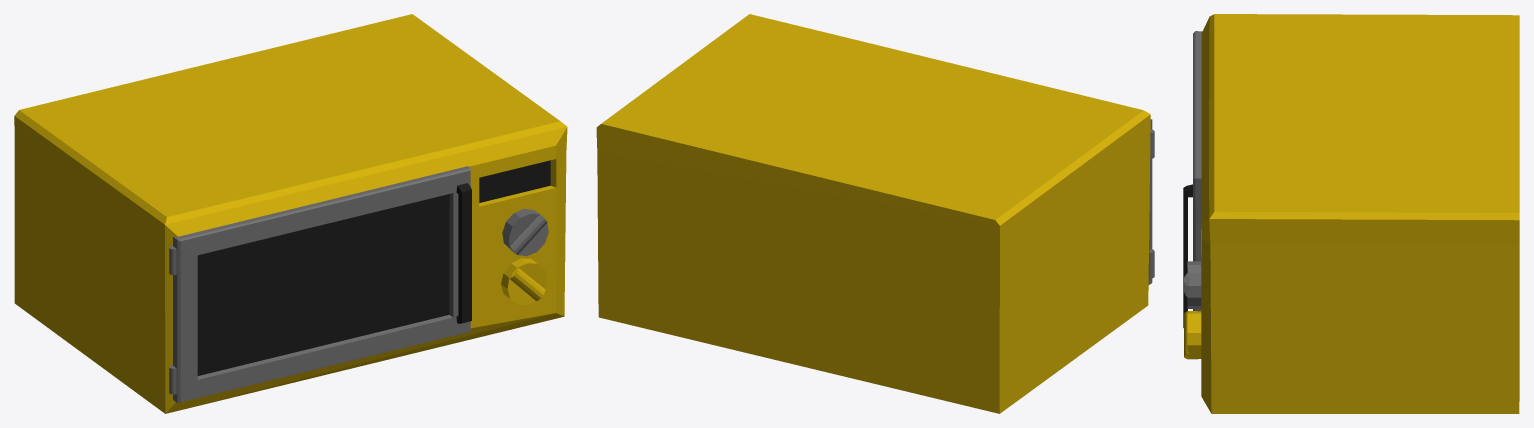
The model's file is LudumDareMicrowave.fbx.
The picture shows the model from 3 angles, left to right: view 1: azimuth 30°, elevation 25°; view 2: azimuth 150°, elevation 25°; view 3: azimuth 270°, elevation 25°; orthographic projection. The views are drawn at different scales.
Visible parts, largest first — view 1: Microwave.007, Microwave.003, Microwave.006, Microwave.004, Microwave.002, Microwave, Microwave.001; view 2: Microwave.007; view 3: Microwave.007, Microwave.006, Microwave, Microwave.001, Microwave.004.
Boxes of the visible parts, x1,y1,x2,y2 form: Microwave.007: (14, 14, 567, 413); Microwave.003: (197, 194, 449, 375); Microwave.006: (173, 166, 470, 402); Microwave.004: (456, 183, 471, 323); Microwave.002: (479, 160, 550, 202); Microwave: (501, 258, 547, 305); Microwave.001: (502, 208, 548, 256); Microwave.007: (596, 14, 1150, 413); Microwave.007: (1201, 14, 1519, 413); Microwave.006: (1193, 31, 1202, 311); Microwave: (1184, 311, 1201, 359); Microwave.001: (1184, 261, 1201, 308); Microwave.004: (1183, 184, 1192, 327).
Bounding box in the file's own units: 106 × 49.03 × 74.42.
